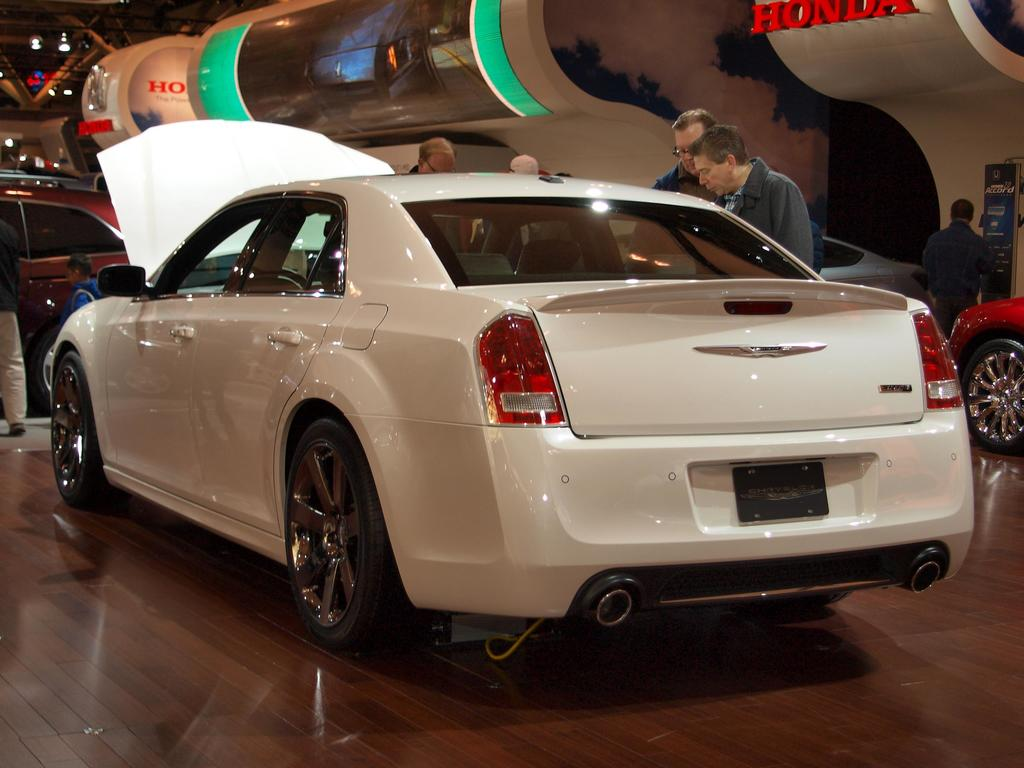Person: (686, 124, 815, 271), (923, 200, 996, 334), (647, 106, 721, 203), (0, 220, 25, 435), (58, 255, 100, 320), (407, 138, 456, 177)
